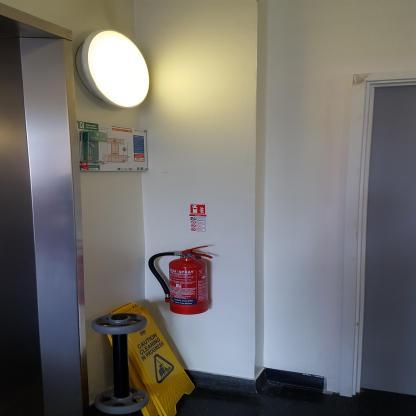Fire Extinguisher: (141, 236, 222, 323)
